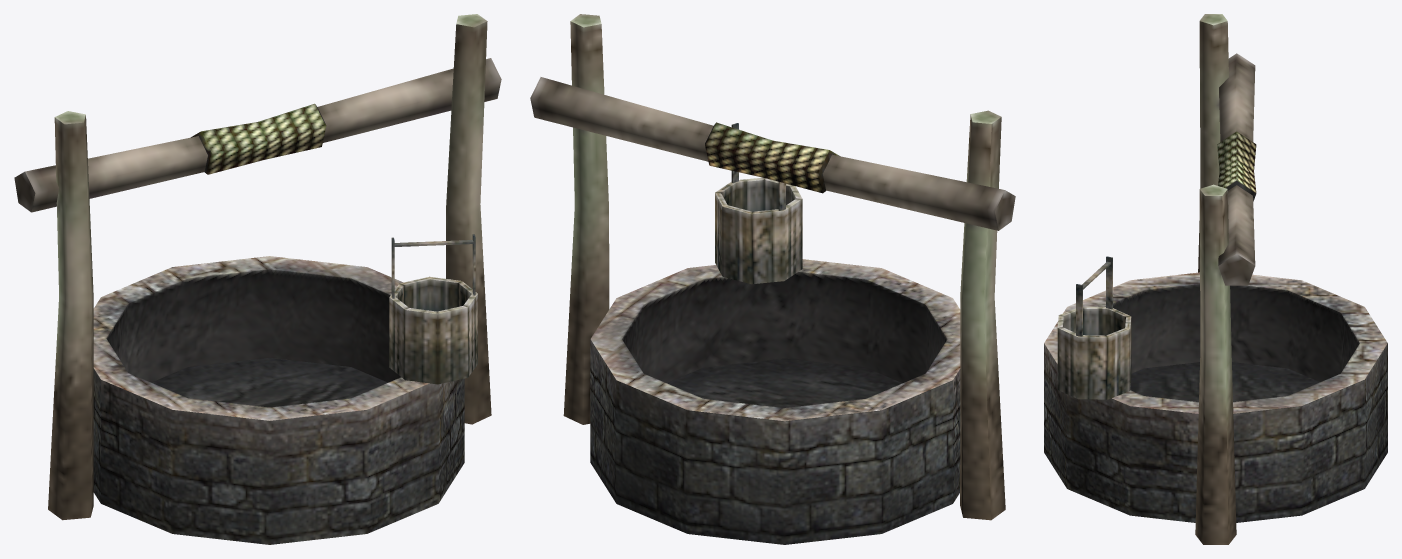
File: MEB_Well.fbx
3 renders of one model, left to right at view 1: azimuth 30°, elevation 25°; view 2: azimuth 150°, elevation 25°; view 3: azimuth 270°, elevation 25°, orthographic. The views are drawn at different scales.
Parts seen in each view (by area): view 1: polySurface38; view 2: polySurface38; view 3: polySurface38.
Boxes of the visible parts, x1,y1,x2,y2 form: polySurface38: [14, 14, 501, 544]; polySurface38: [530, 14, 1015, 544]; polySurface38: [1044, 14, 1387, 544].
Bounding box in the file's own units: 394 × 318 × 285.
